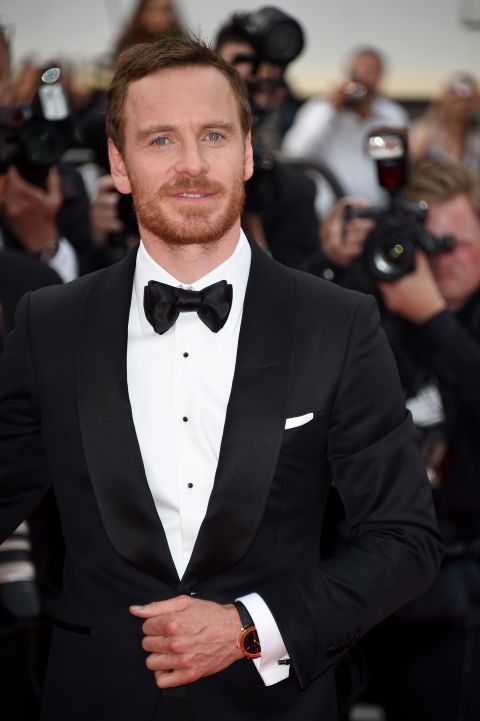bad: (124, 110, 253, 239)
